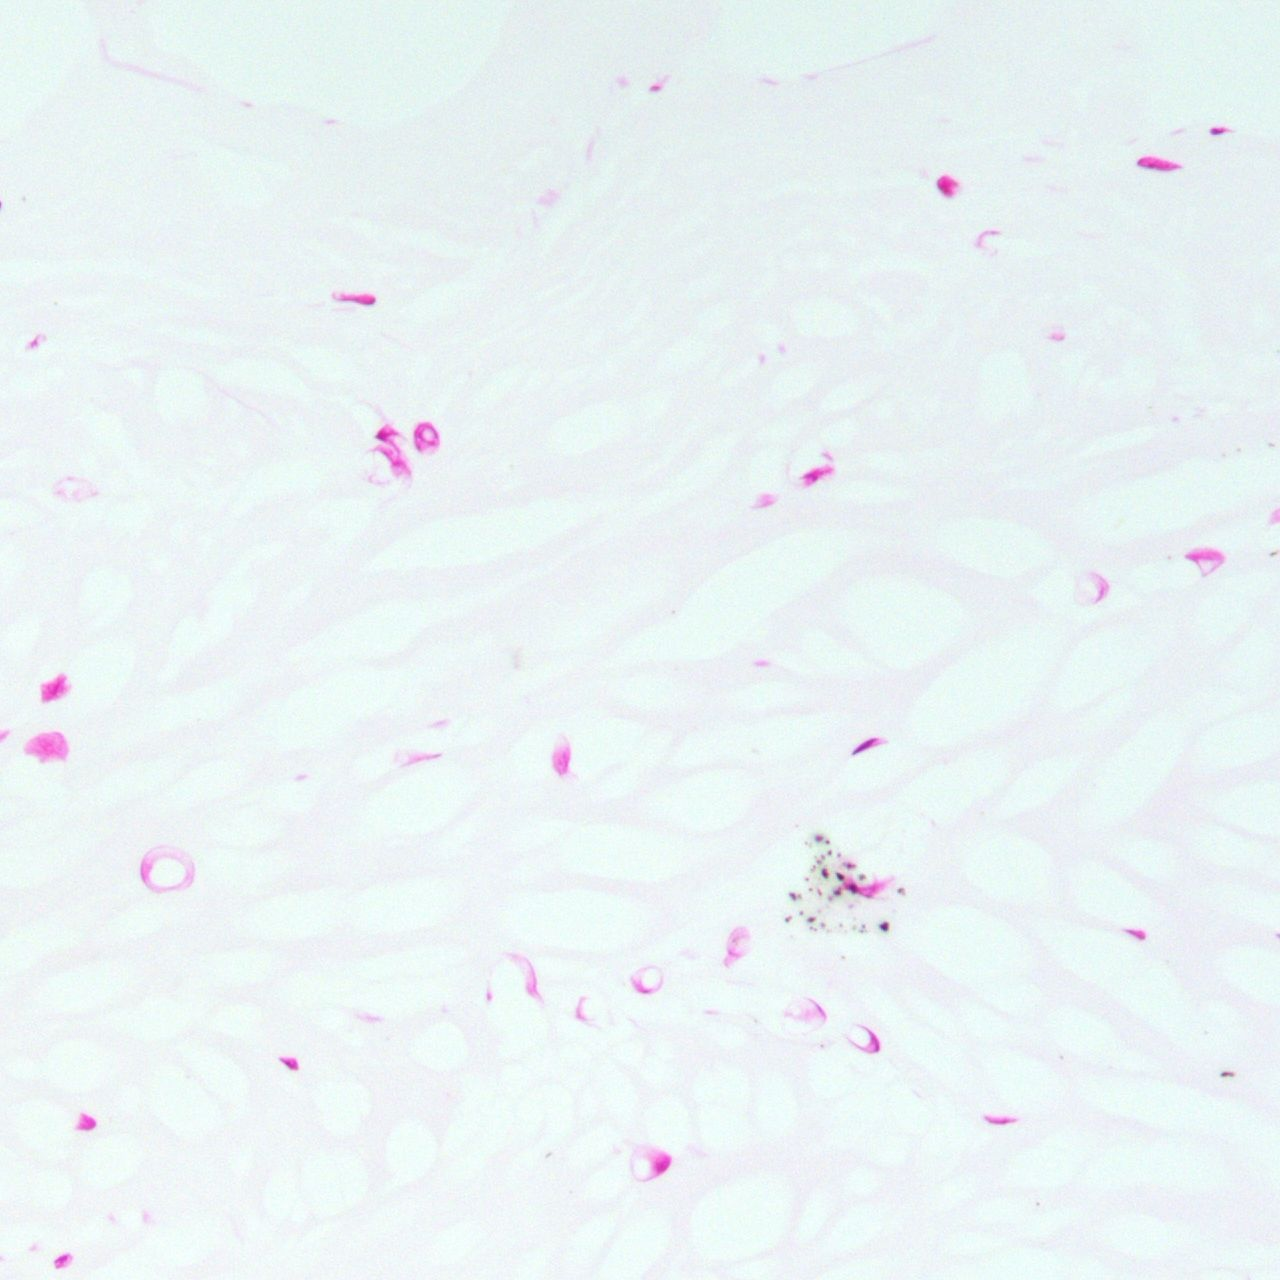dust: (880, 921, 888, 930), (896, 887, 905, 895), (1221, 1071, 1235, 1076), (858, 873, 866, 880), (807, 916, 815, 922), (789, 892, 795, 900)
nucleus-FG: (1137, 154, 1182, 175), (800, 462, 832, 487), (850, 734, 880, 759), (278, 1050, 302, 1073), (50, 1250, 75, 1272), (935, 174, 956, 196), (337, 294, 375, 304), (1124, 924, 1147, 940), (1210, 127, 1229, 134)
